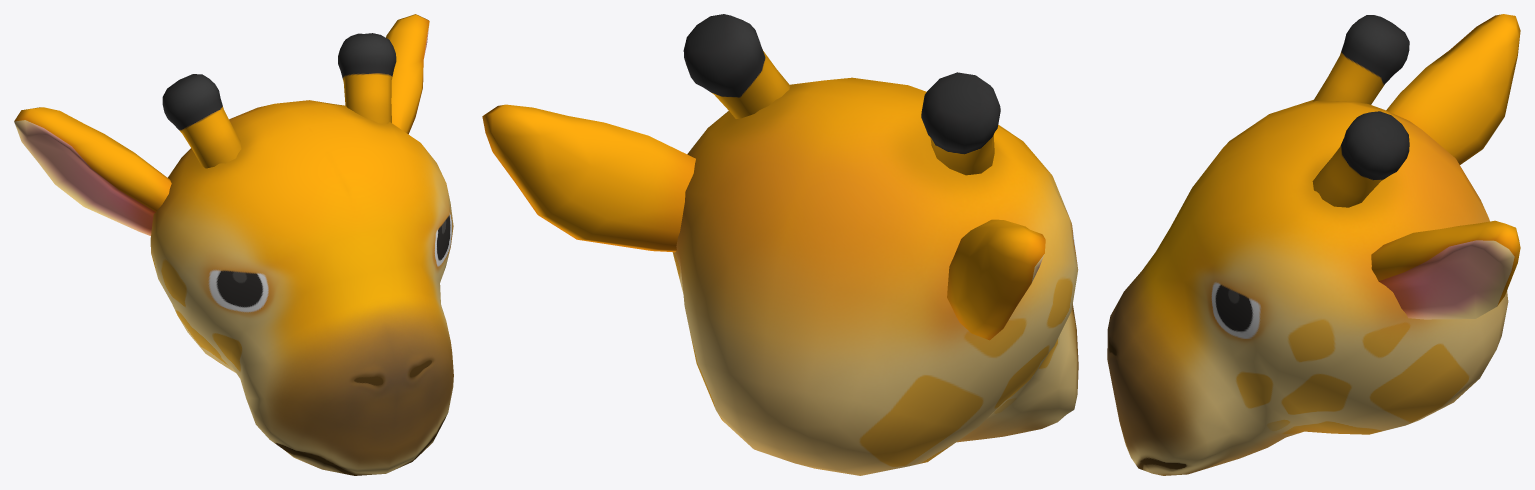
Rendered from ENV2010053.fbx.
The picture shows the model from 3 angles, left to right: view 1: azimuth 30°, elevation 25°; view 2: azimuth 150°, elevation 25°; view 3: azimuth 270°, elevation 25°; orthographic projection. The views are drawn at different scales.
Parts seen in each view (by area): view 1: smENV2010053; view 2: smENV2010053; view 3: smENV2010053.
Part boxes in pixels (box(x1,y1,x2,y2)): smENV2010053: box(14, 14, 453, 475); smENV2010053: box(482, 14, 1078, 475); smENV2010053: box(1107, 14, 1520, 475).
Size of the model in its own units: 31.04 by 24.56 by 23.44.
Materials: 1 (1 with a texture image).
